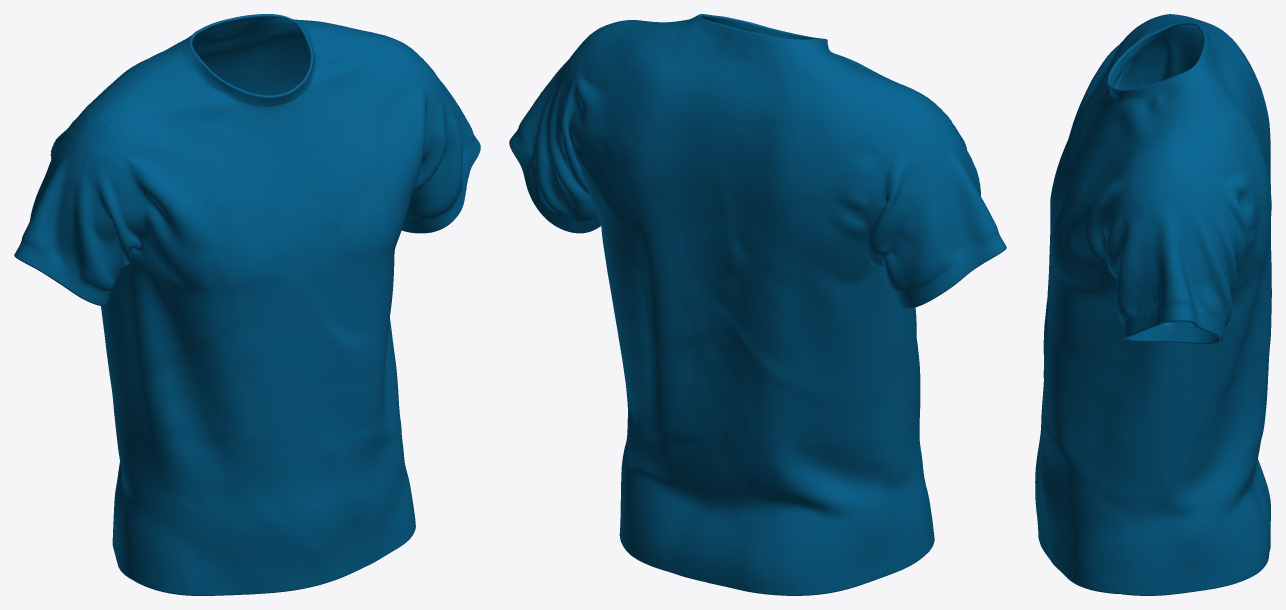
File: shirt5.glb
3 renders of one model, left to right at view 1: azimuth 30°, elevation 25°; view 2: azimuth 150°, elevation 25°; view 3: azimuth 270°, elevation 25°, orthographic. The views are drawn at different scales.
Parts seen in each view (by area): view 1: t-shirt.002; view 2: t-shirt.002; view 3: t-shirt.002.
Part boxes in pixels (x1,y1,x2,y2): t-shirt.002: (14, 14, 480, 595); t-shirt.002: (509, 14, 1006, 595); t-shirt.002: (1035, 14, 1271, 595).
Bounding box in the file's own units: 23.78 × 24.65 × 10.65.
